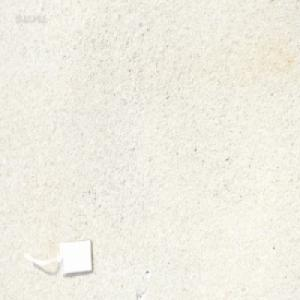LuggageTag: (20, 235, 94, 277)
